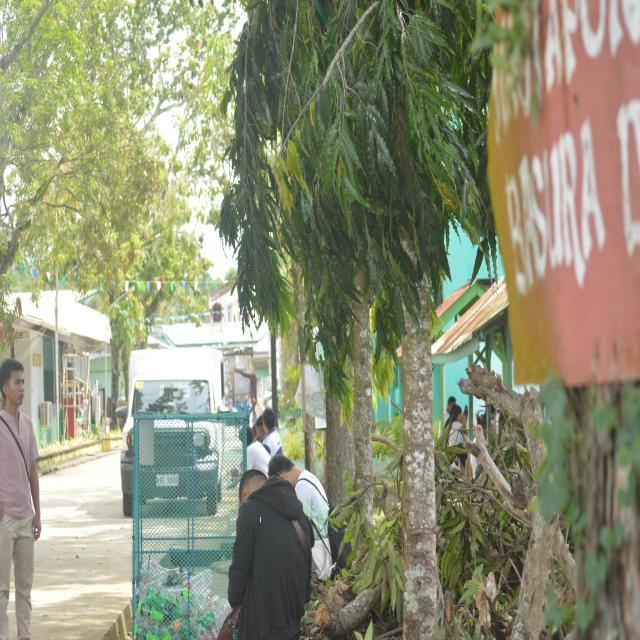person: (228, 470, 313, 639), (0, 359, 41, 639), (269, 455, 333, 580), (247, 427, 269, 475), (262, 408, 282, 457), (444, 397, 456, 424)
